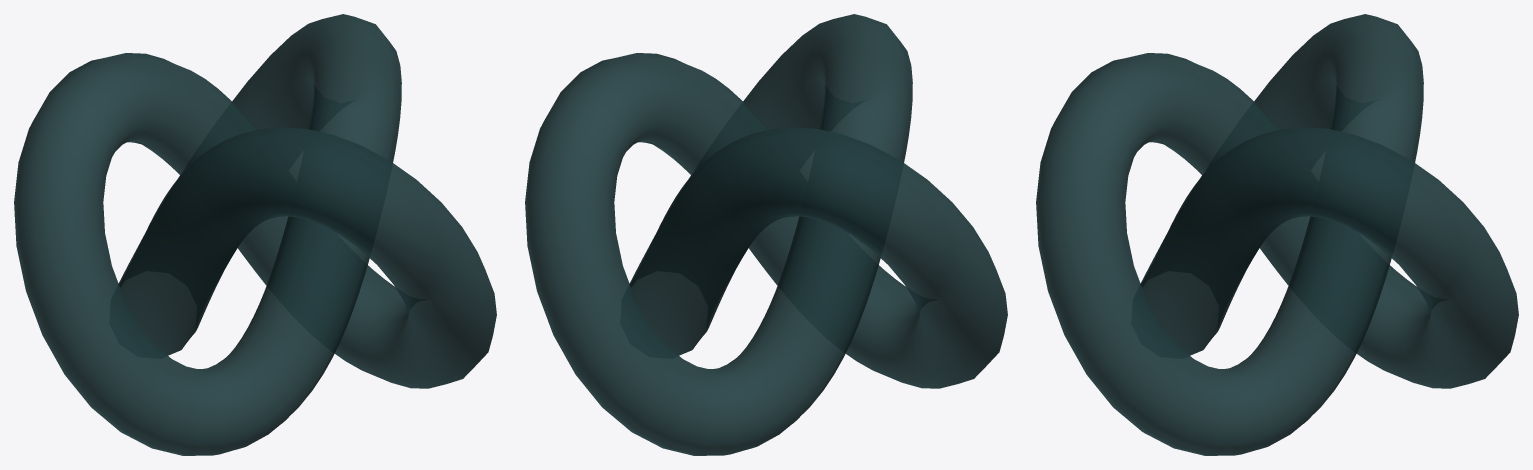
Rendered from knot.dae.
The picture shows the model from 3 angles, left to right: view 1: azimuth 30°, elevation 25°; view 2: azimuth 150°, elevation 25°; view 3: azimuth 270°, elevation 25°; orthographic projection.
Visible parts, largest first — view 1: knot_Torus_Knot001; view 2: knot_Torus_Knot001; view 3: knot_Torus_Knot001.
Part boxes in pixels (bbox=[...]): knot_Torus_Knot001: bbox=[14, 14, 496, 455]; knot_Torus_Knot001: bbox=[525, 14, 1007, 455]; knot_Torus_Knot001: bbox=[1036, 14, 1518, 455].
Bounding box in the file's own units: 296 × 229 × 314.
